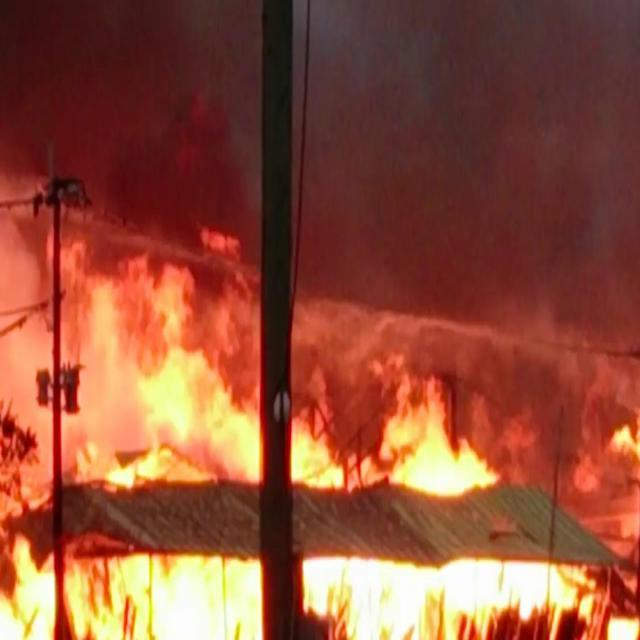Fire: (0, 188, 258, 486), (288, 350, 502, 498), (3, 532, 263, 638), (302, 554, 598, 638), (614, 417, 638, 459)
